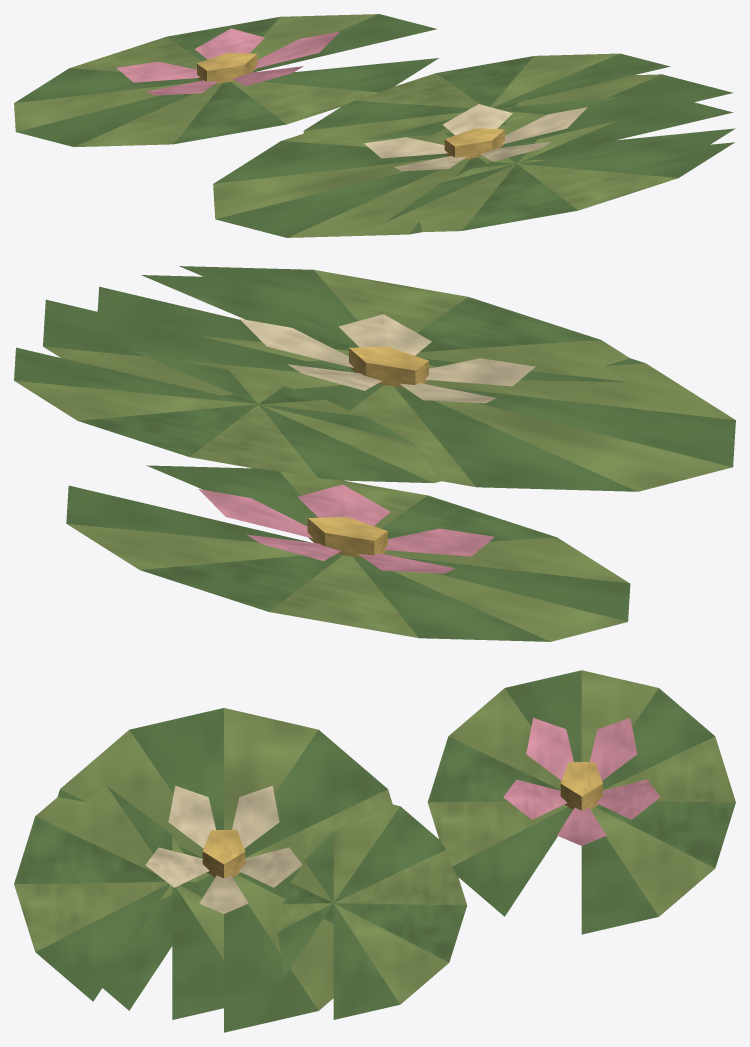
File: water_lily_set_03.fbx
3 views of the same model, one above another, from view 1: azimuth 30°, elevation 25°; view 2: azimuth 150°, elevation 25°; view 3: azimuth 270°, elevation 25° (orthographic). The views are drawn at different scales.
Visible parts, largest first — view 1: water_lily_set_03; view 2: water_lily_set_03; view 3: water_lily_set_03.
Part boxes in pixels (x1,y1,x2,y2): water_lily_set_03: (14, 14, 735, 237); water_lily_set_03: (14, 266, 735, 641); water_lily_set_03: (14, 670, 735, 1032).
Bounding box in the file's own units: 143 × 5 × 120.
1 material, 1 textured.
